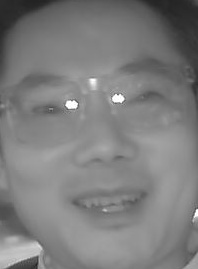glass: (4, 76, 92, 143), (106, 69, 189, 130)
mouth: (68, 180, 150, 229)
